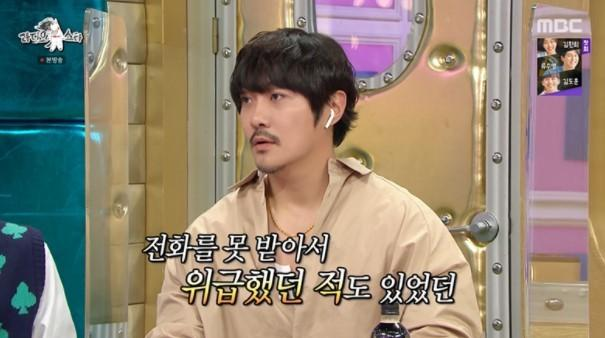earphone: (322, 107, 338, 131)
